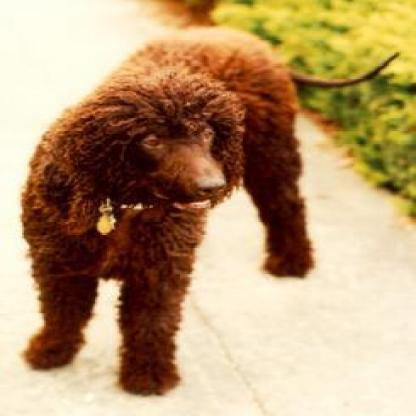Irish_water_spaniel: (15, 17, 399, 399)
